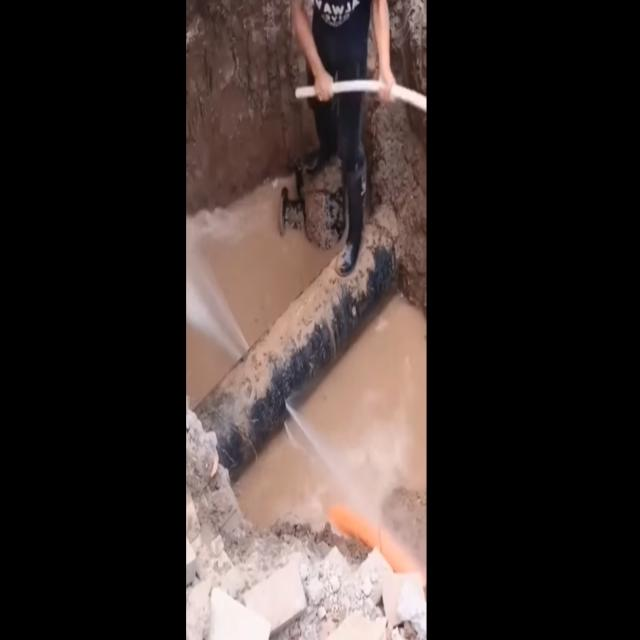leak: (186, 229, 249, 362), (284, 403, 342, 482)
